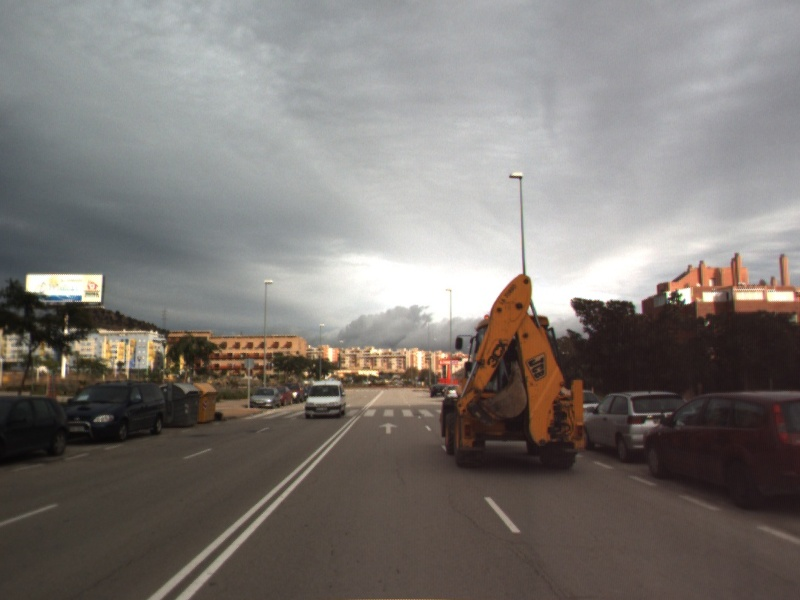STRAIGHT: (377, 420, 399, 435)
